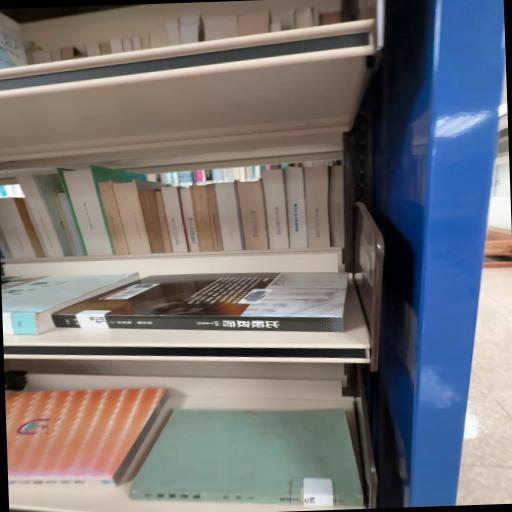flat: (131, 409, 353, 504), (52, 272, 348, 340)
